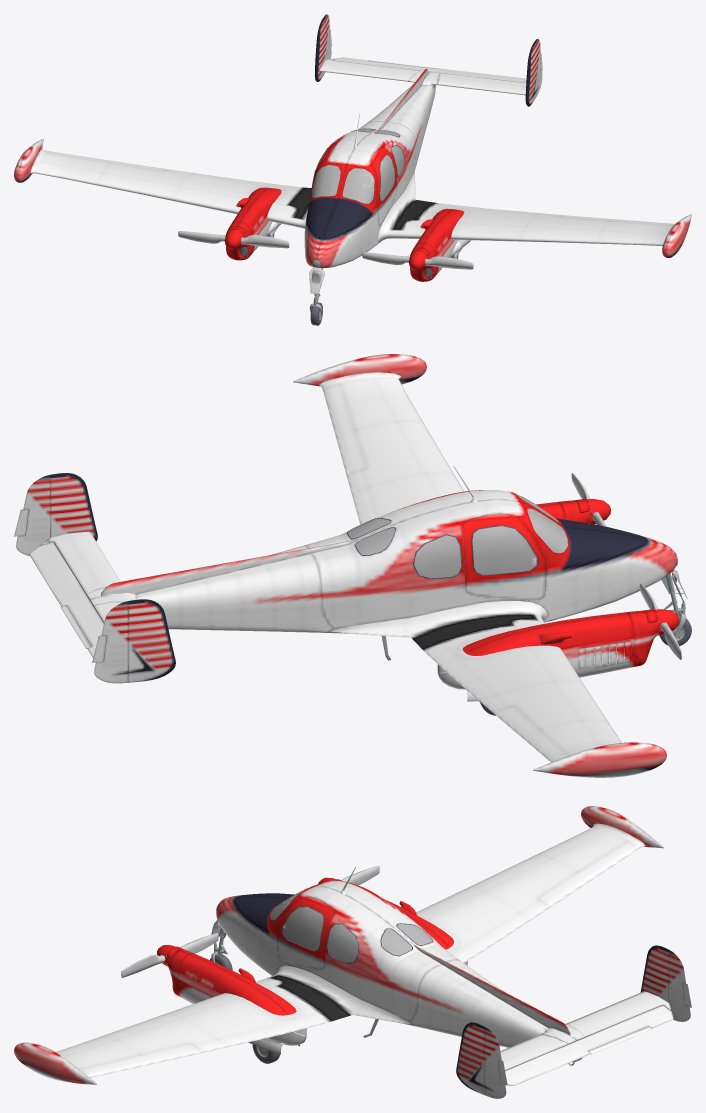
3 views of the same model, one above another, from view 1: azimuth 30°, elevation 25°; view 2: azimuth 150°, elevation 25°; view 3: azimuth 270°, elevation 25° (orthographic). The views are drawn at different scales.
Parts seen in each view (by area): view 1: 飞机05; view 2: 飞机05; view 3: 飞机05.
Boxes of the visible parts, bbox=[...] form: 飞机05: bbox=[14, 14, 691, 325]; 飞机05: bbox=[14, 354, 691, 777]; 飞机05: bbox=[14, 806, 691, 1098].
Size of the model in its own units: 10.17 by 2.84 by 10.18.
8 materials, 1 textured.
